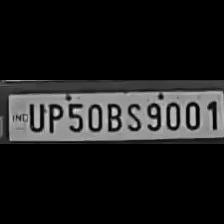0: (182, 98, 202, 130), (163, 99, 181, 130), (85, 102, 103, 132)
1: (203, 98, 221, 130)
5: (64, 100, 84, 132)
9: (144, 99, 162, 131)
B: (102, 100, 122, 132)
P: (44, 100, 62, 134)
S: (122, 100, 142, 132)
U: (24, 100, 44, 132)
